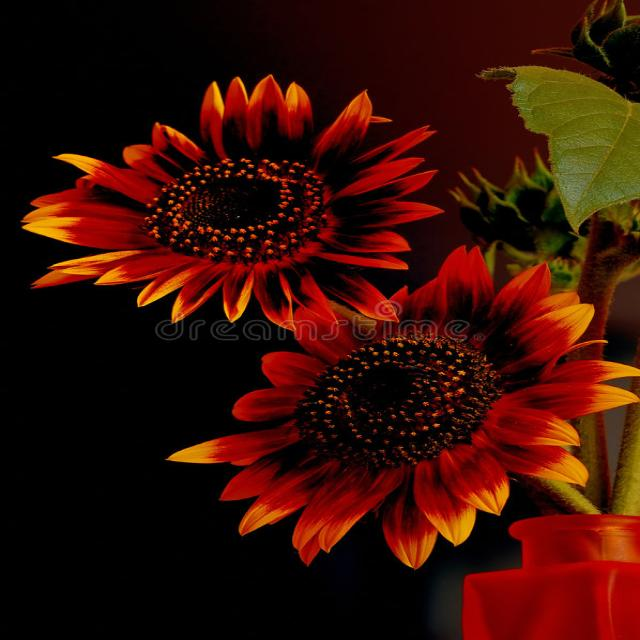sunflower: (156, 236, 636, 567), (13, 59, 516, 340)
